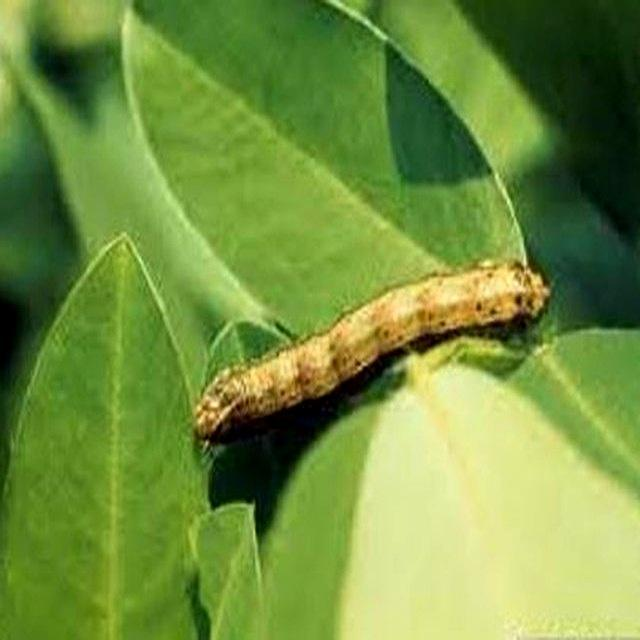gusano_cogollero: (185, 252, 556, 453)
